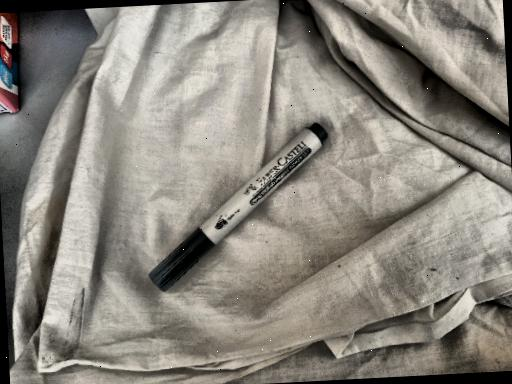marcador negro: (149, 124, 327, 291)
